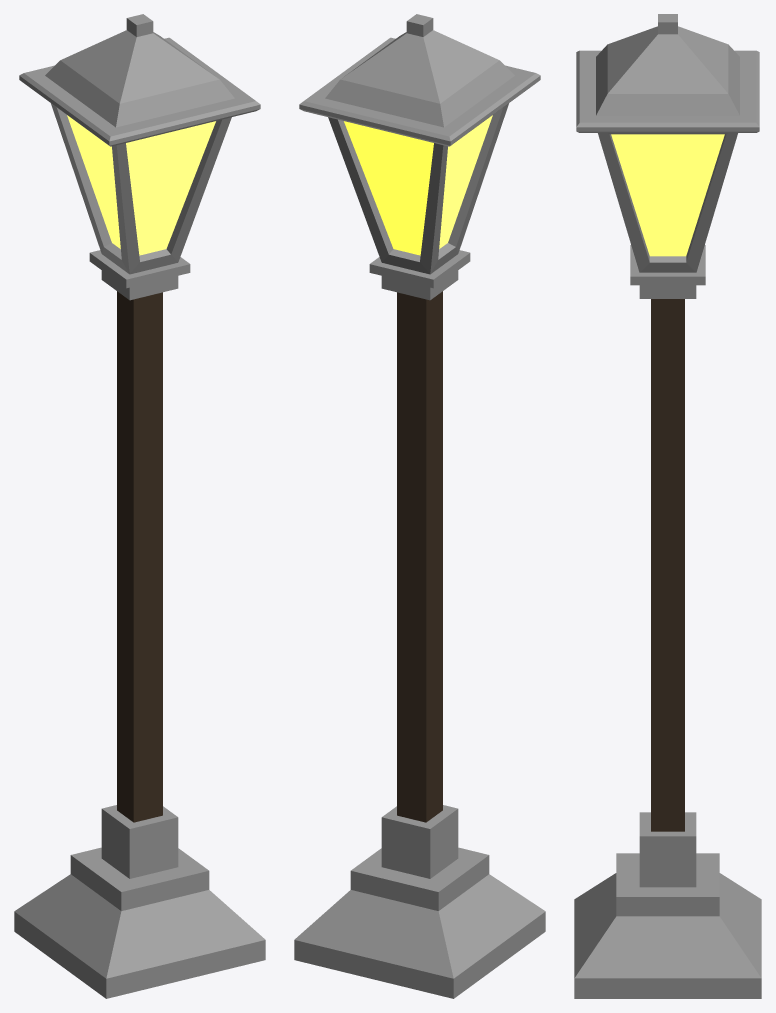
File: LightC.fbx
3 renders of one model, left to right at view 1: azimuth 30°, elevation 25°; view 2: azimuth 150°, elevation 25°; view 3: azimuth 270°, elevation 25°, orthographic.
Parts seen in each view (by area): view 1: LightC; view 2: LightC; view 3: LightC.
Boxes of the visible parts, box(x1,y1,x2,y2) form: LightC: box(14, 14, 265, 998); LightC: box(294, 14, 545, 998); LightC: box(574, 14, 761, 998).
Bounding box in the file's own units: 132 × 733 × 132.
